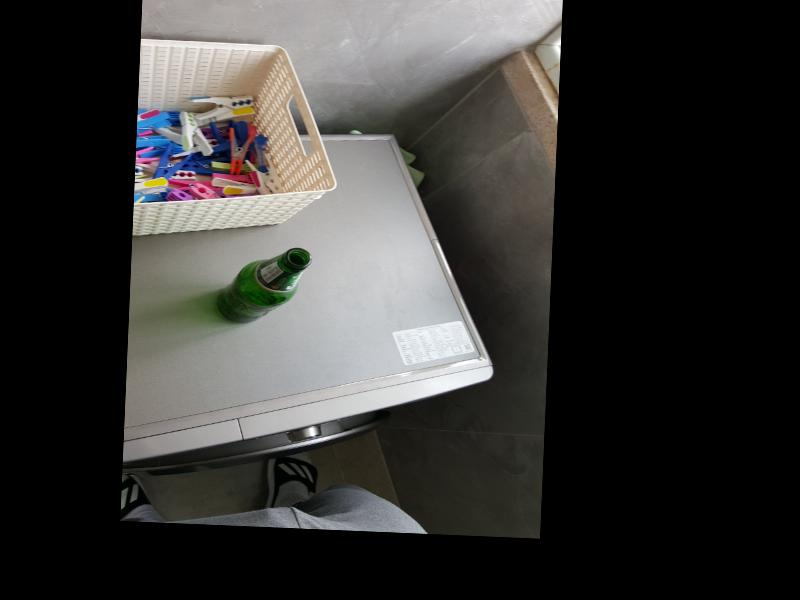Beer: (216, 245, 312, 327)
